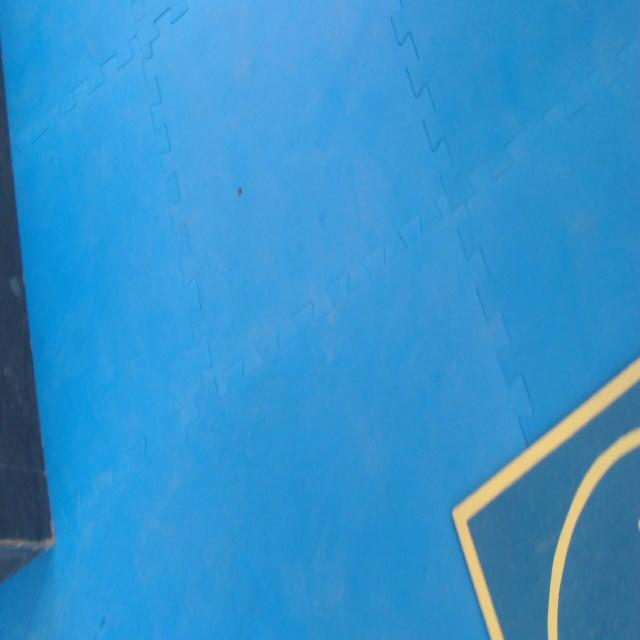base_pouso: (451, 352, 640, 639)
